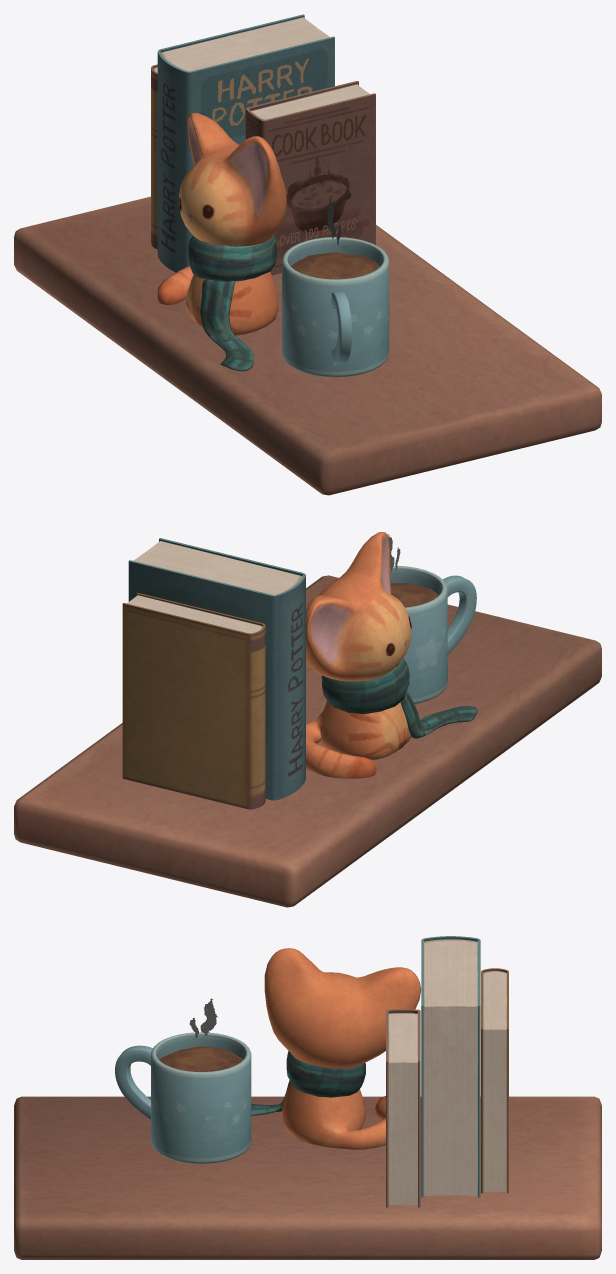
The model's file is cat_and_books.glb.
3 views of the same model, one above another, from view 1: azimuth 30°, elevation 25°; view 2: azimuth 150°, elevation 25°; view 3: azimuth 270°, elevation 25° (orthographic). The views are drawn at different scales.
Visible parts, largest first — view 1: shelf, book1, book2, cat, cup, scarf1, scarf2, book3, Cube.004; view 2: shelf, book3, book1, cat, cup, scarf1, scarf2, Cube.004; view 3: shelf, cat, book1, cup, book2, book3, scarf1, Cube.004, steam.
Boxes of the visible parts, x1,y1,x2,y2 form: shelf: (14,196,601,495); book1: (157,14,334,272); book2: (245,81,375,275); cat: (157,113,286,335); cup: (281,237,389,377); scarf1: (188,234,276,281); scarf2: (200,279,253,371); book3: (151,64,157,249); Cube.004: (331,291,352,365); shelf: (14,575,601,907); book3: (122,592,265,809); book1: (128,538,305,800); cat: (306,532,411,778); cup: (390,566,447,703); scarf1: (321,657,409,714); scarf2: (400,690,477,738); Cube.004: (443,575,476,655); shelf: (14,1096,601,1259); cat: (264,948,421,1149); book1: (421,936,480,1197); cup: (150,1032,251,1163); book2: (386,1009,420,1207); book3: (481,968,508,1193); scarf1: (286,1051,365,1097); Cube.004: (115,1045,152,1119); steam: (189,998,217,1038).
Size of the model in its own units: 4.99 by 4.19 by 9.58.
4 materials, 4 textured.
